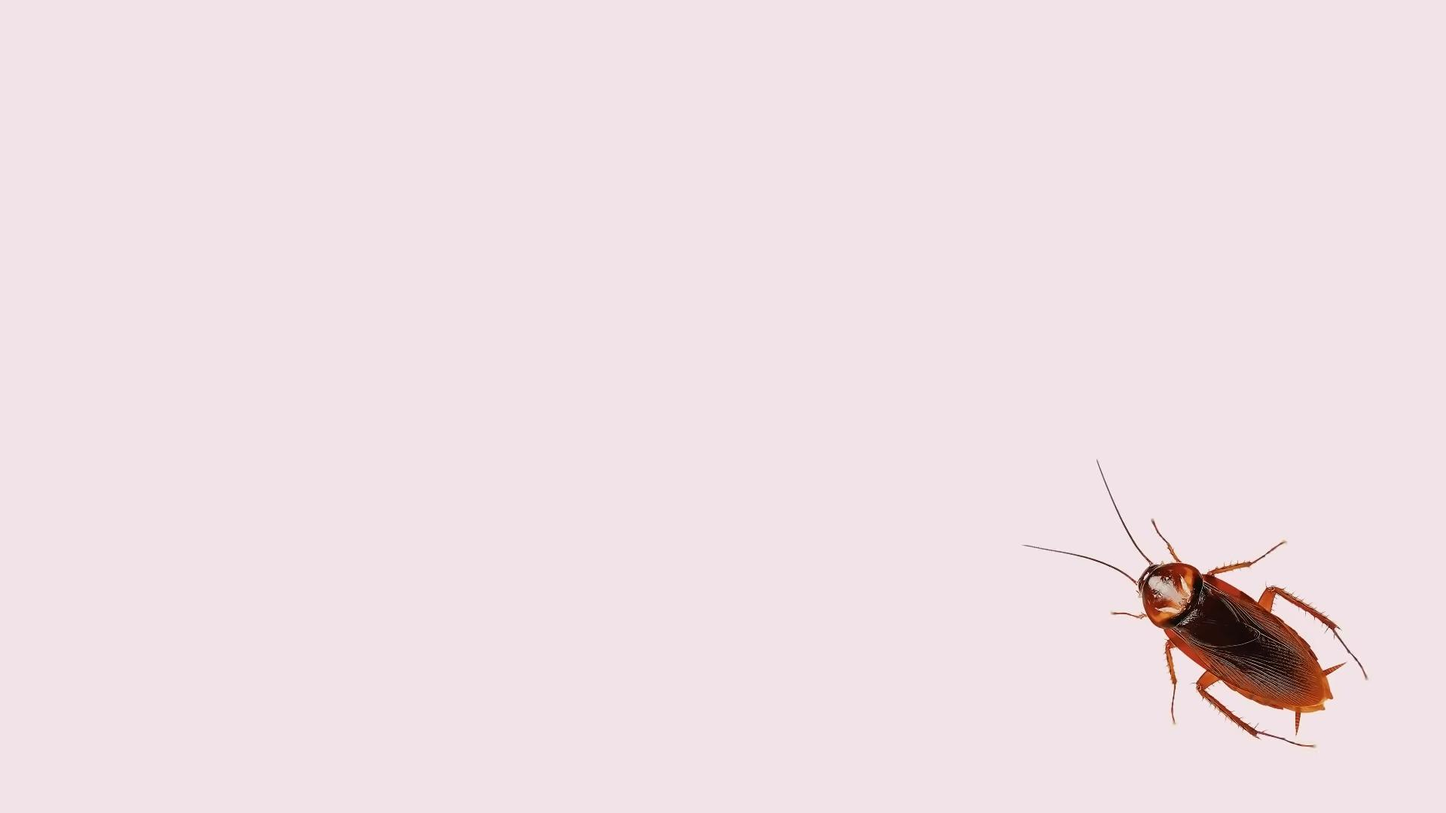cockroach: (1035, 483, 1361, 760)
